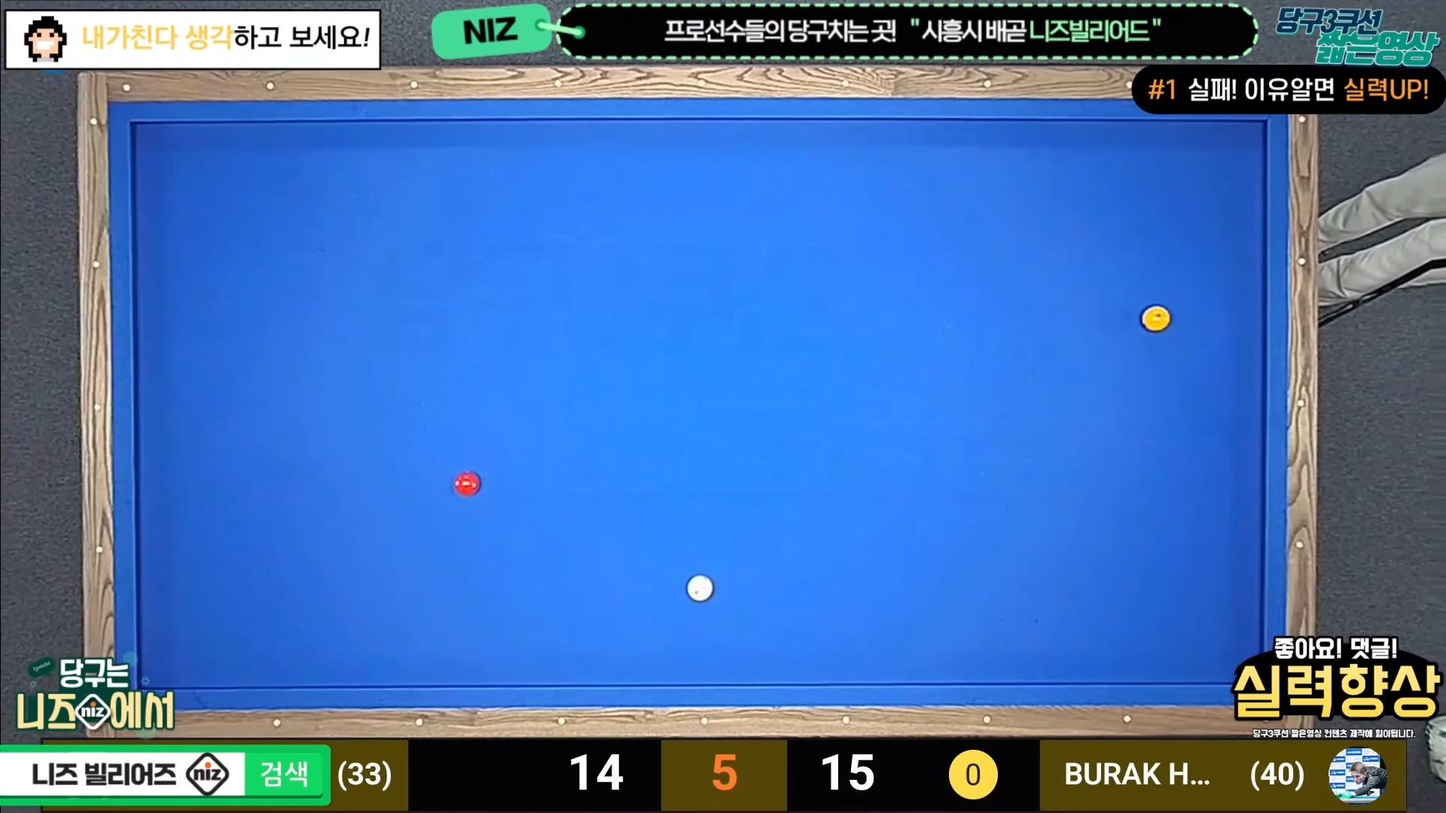Red: (452, 472, 486, 499)
White: (687, 575, 719, 603)
Yellow: (1137, 305, 1173, 334)
